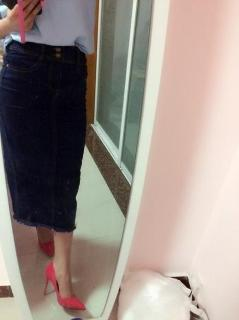long sleeve top: (0, 1, 97, 54)
skirt: (0, 39, 88, 233)
